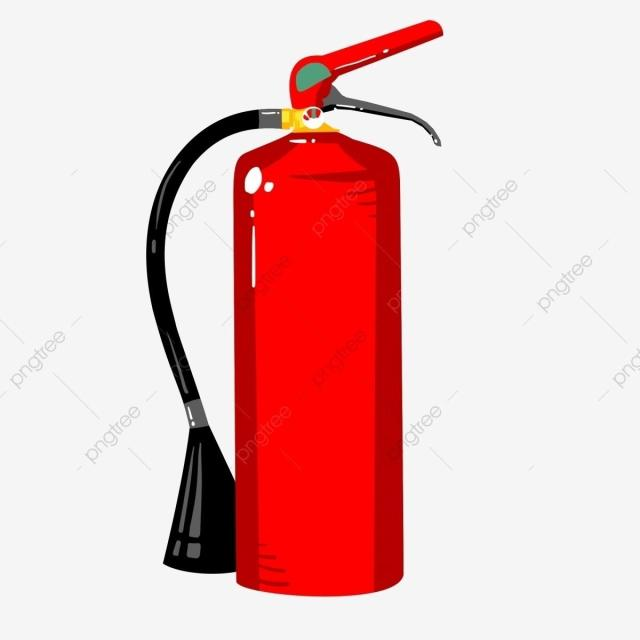fire_extinguisher: (141, 13, 447, 600)
